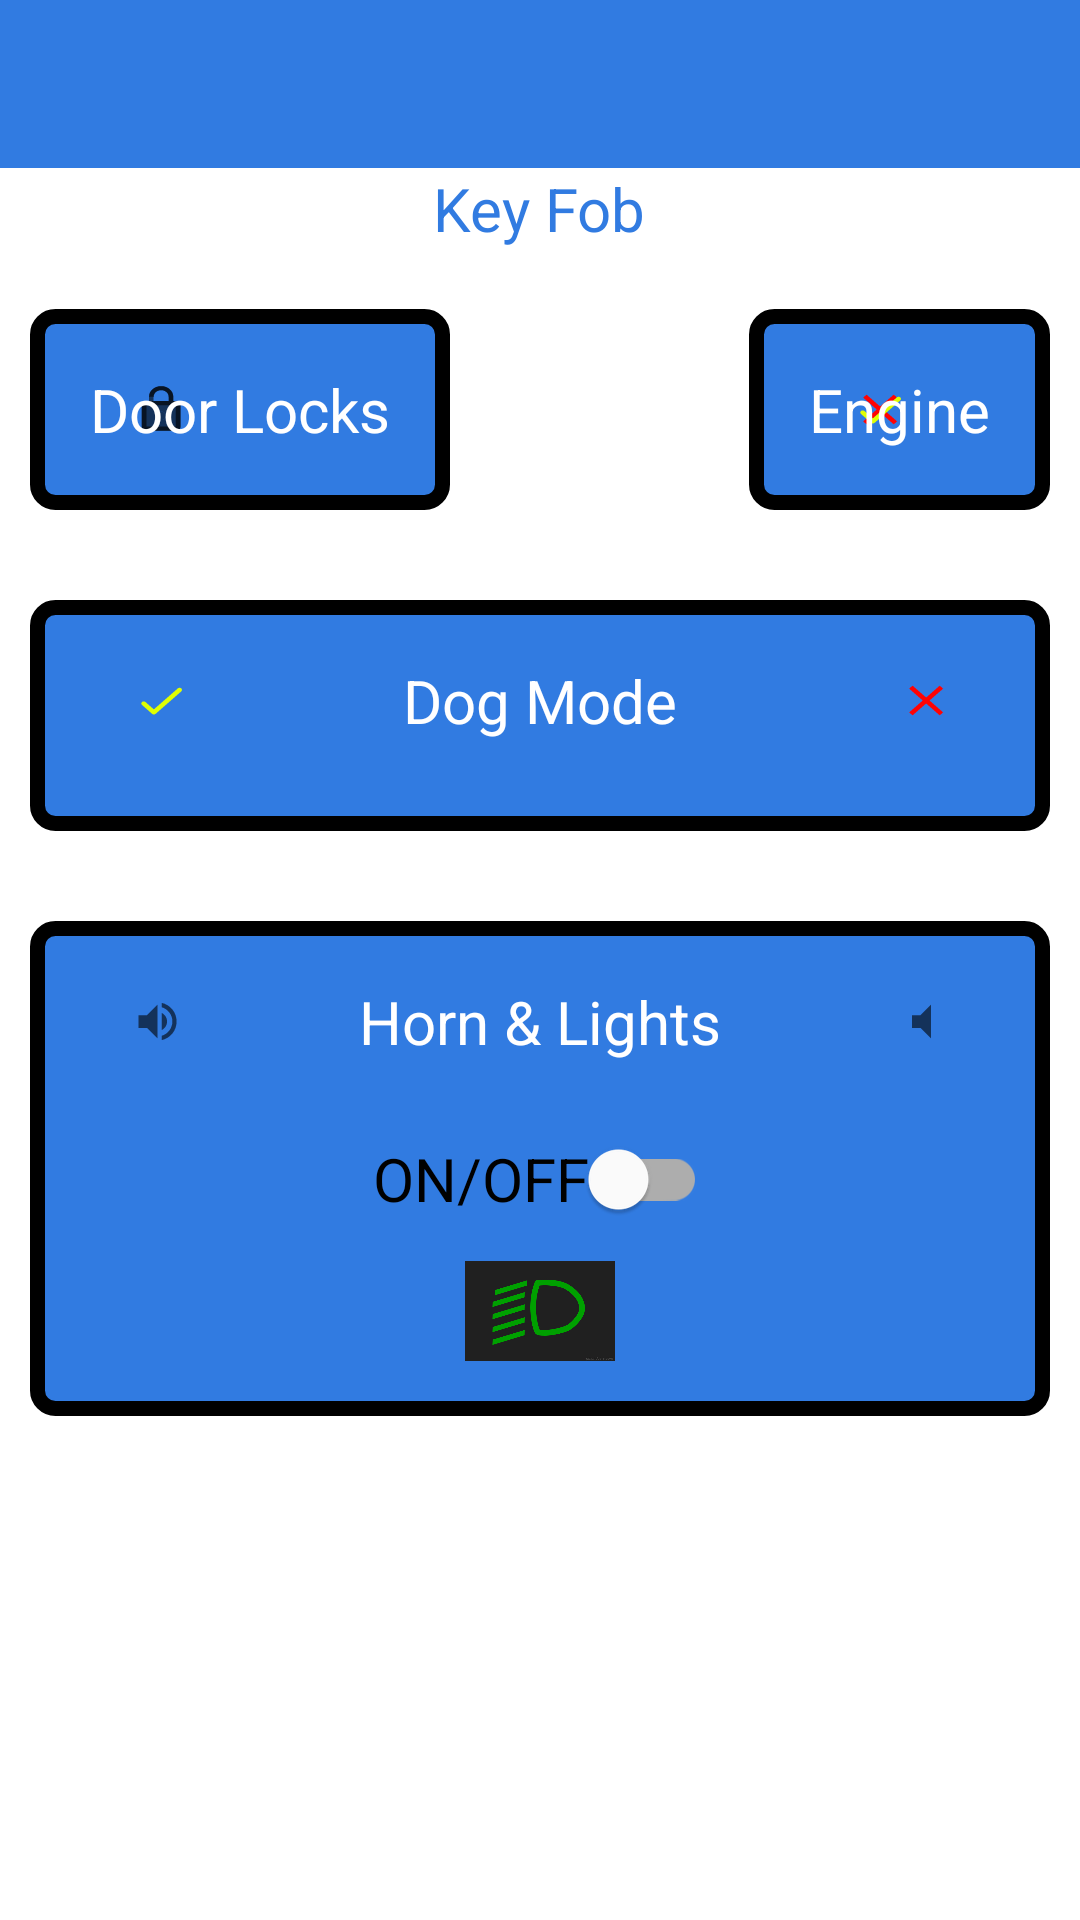

Screen size 1080x1920. Icon name, then its center in pixels as point (x, y):
volume mute: point (921, 1021)
volume up: point (157, 1021)
